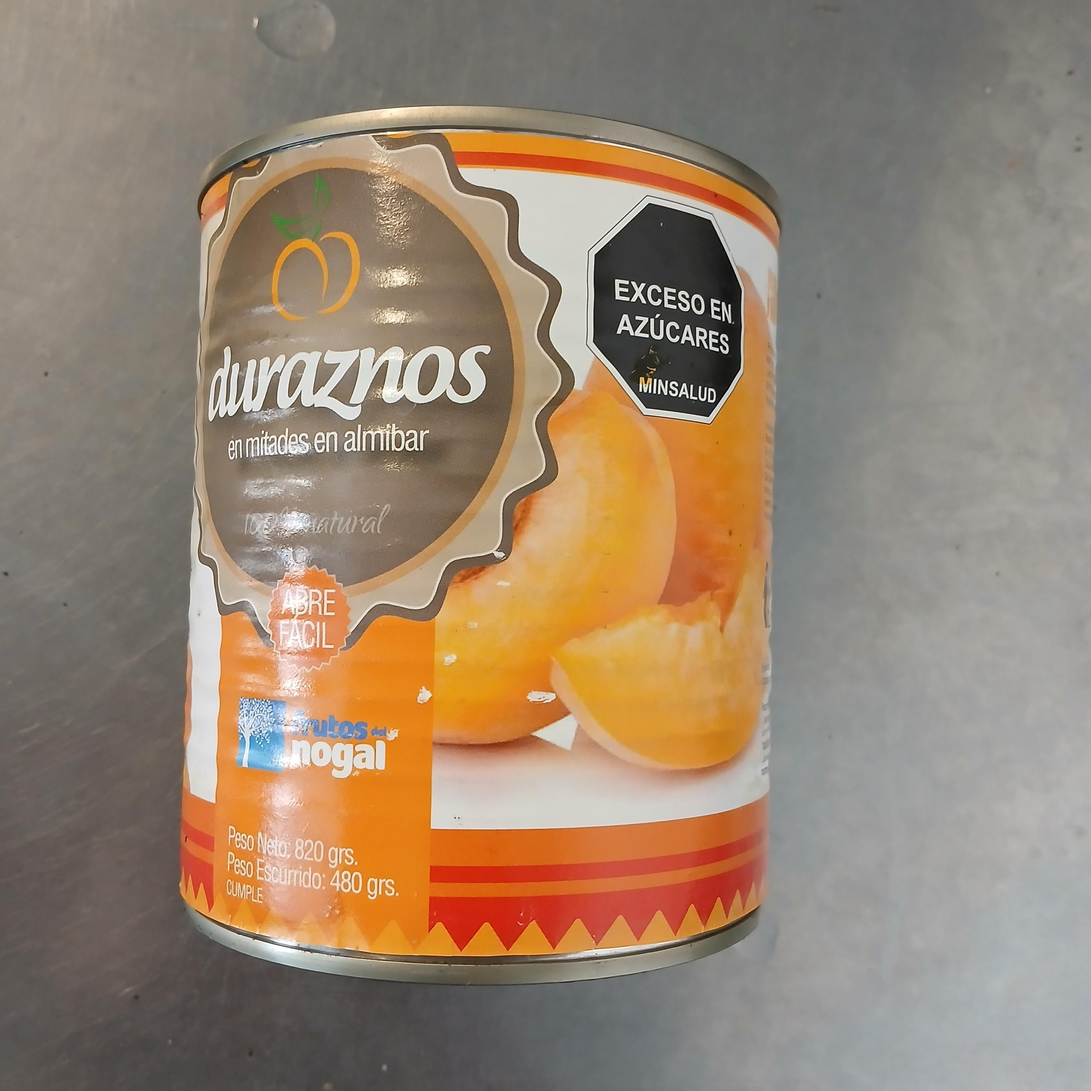Metal: (180, 110, 779, 983)
